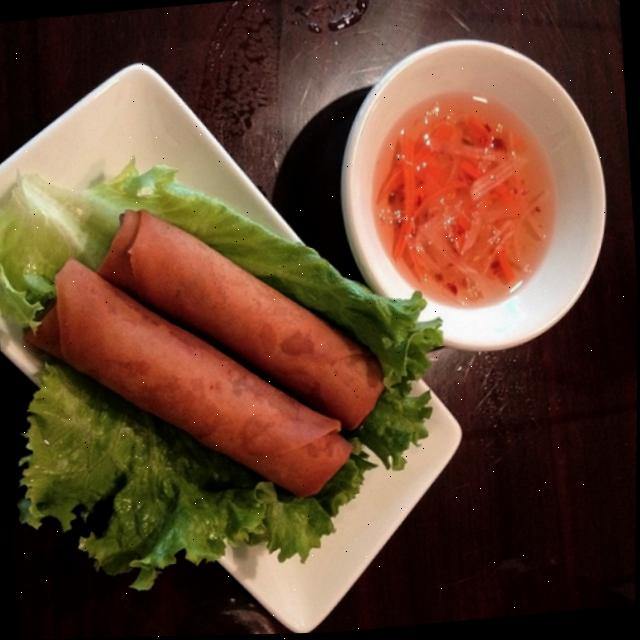炸货点心: (0, 163, 428, 561)
